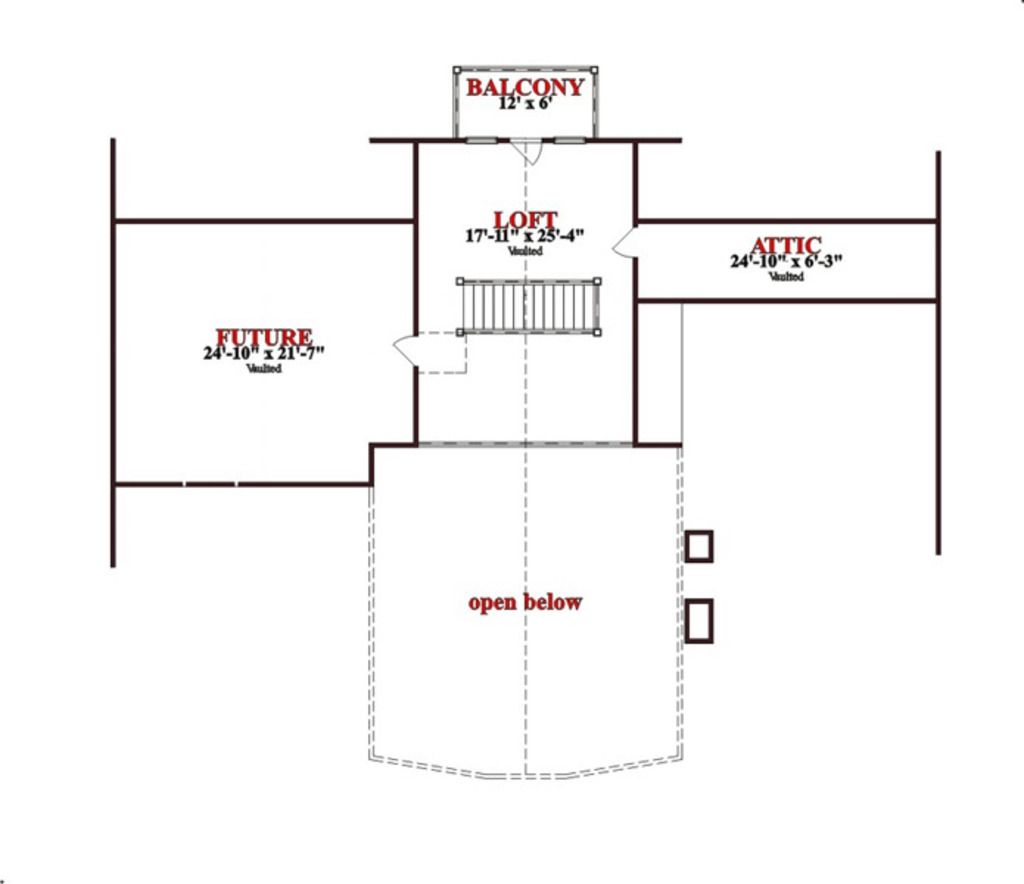door: (389, 328, 420, 369), (504, 138, 548, 165), (609, 227, 636, 264)
stairs: (454, 272, 604, 339)
